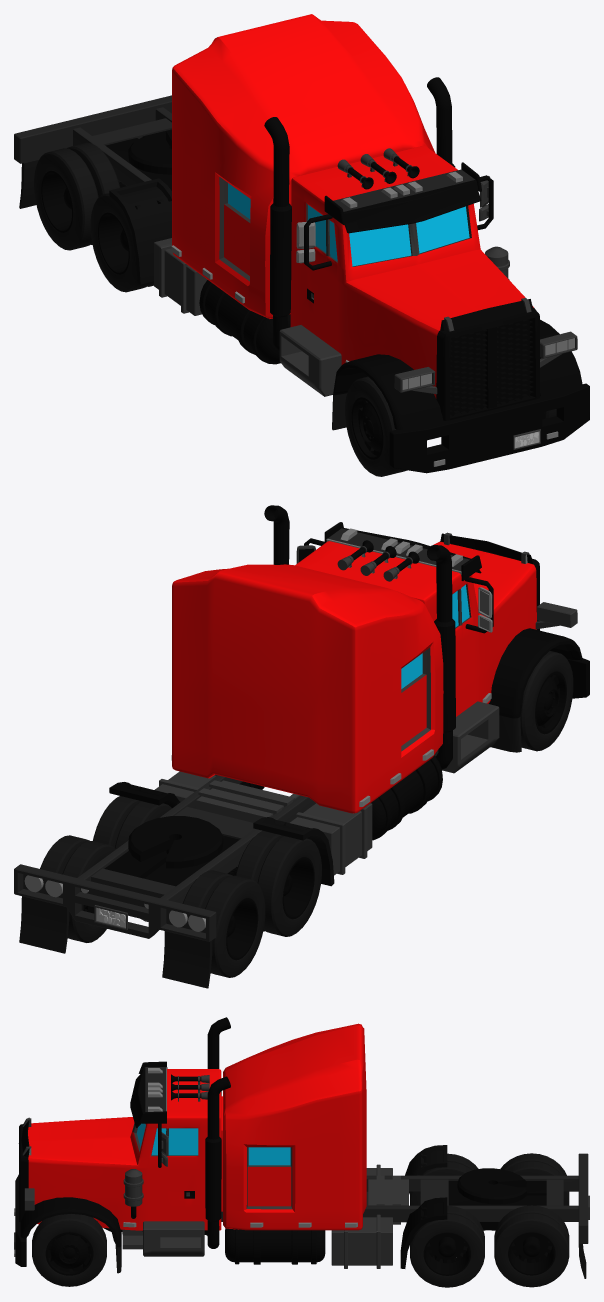
The model's file is semi.obj.
3 views of the same model, one above another, from view 1: azimuth 30°, elevation 25°; view 2: azimuth 150°, elevation 25°; view 3: azimuth 270°, elevation 25° (orthographic). The views are drawn at different scales.
Parts seen in each view (by area): view 1: pCube5, pCube4, pCube2, pCylinder2, pCylinder23, pCube15, pPlane6, pCube9, polySurface33 pCube8, pCylinder18 polySurface31, pCylinder1, pCube3 (+12 smaller); view 2: pCube5, pCube4, pCube9, pCylinder5, pCube1, pCylinder2, pCylinder23, polySurface21 pCylinder18, pCylinder18 polySurface31, polySurface82 pCube7 polySurface84, pCylinder1, pCube22 (+18 smaller); view 3: pCube5, pCube4, pCube1, pCylinder1, pCylinder23, pCylinder5, polySurface18 pCylinder16, pCylinder18 polySurface28, pCylinder18 polySurface20, polySurface83 polySurface82 pCube7, pCube3, pCylinder2 (+14 smaller).
Boxes of the visible parts, bbox=[...] form: pCube5: bbox=[172, 14, 435, 318]; pCube4: bbox=[290, 146, 539, 420]; pCube2: bbox=[389, 383, 589, 473]; pCylinder2: bbox=[332, 319, 582, 430]; pCylinder23: bbox=[264, 77, 455, 352]; pCube15: bbox=[324, 162, 481, 233]; pPlane6: bbox=[450, 319, 533, 416]; pCube9: bbox=[14, 95, 171, 208]; polySurface33 pCube8: bbox=[109, 178, 171, 284]; pCylinder18 polySurface31: bbox=[34, 148, 98, 250]; pCylinder1: bbox=[199, 280, 290, 364]; pCube3: bbox=[279, 325, 341, 396]; pCube5: bbox=[172, 564, 443, 813]; pCube4: bbox=[295, 541, 539, 716]; pCube9: bbox=[14, 864, 216, 988]; pCylinder5: bbox=[104, 816, 239, 886]; pCube1: bbox=[77, 775, 315, 903]; pCylinder2: bbox=[488, 628, 582, 752]; pCylinder23: bbox=[264, 505, 455, 769]; polySurface21 pCylinder18: bbox=[257, 836, 321, 936]; pCylinder18 polySurface31: bbox=[205, 875, 265, 977]; polySurface82 pCube7 polySurface84: bbox=[290, 803, 372, 875]; pCylinder1: bbox=[239, 755, 442, 840]; pCube22: bbox=[196, 780, 294, 822]; pCube5: bbox=[221, 1023, 366, 1230]; pCube4: bbox=[18, 1069, 221, 1230]; pCube1: bbox=[221, 1175, 578, 1221]; pCylinder1: bbox=[225, 1228, 325, 1264]; pCylinder23: bbox=[103, 1017, 230, 1248]; pCylinder5: bbox=[448, 1168, 546, 1205]; polySurface18 pCylinder16: bbox=[32, 1214, 106, 1286]; pCylinder18 polySurface28: bbox=[494, 1213, 569, 1287]; pCylinder18 polySurface20: bbox=[410, 1214, 484, 1287]; polySurface83 polySurface82 pCube7: bbox=[331, 1214, 392, 1268]; pCube3: bbox=[122, 1221, 204, 1256]; pCylinder2: bbox=[20, 1197, 121, 1273].
Bounding box in the file's own units: 8.59 × 11.85 × 29.12.
